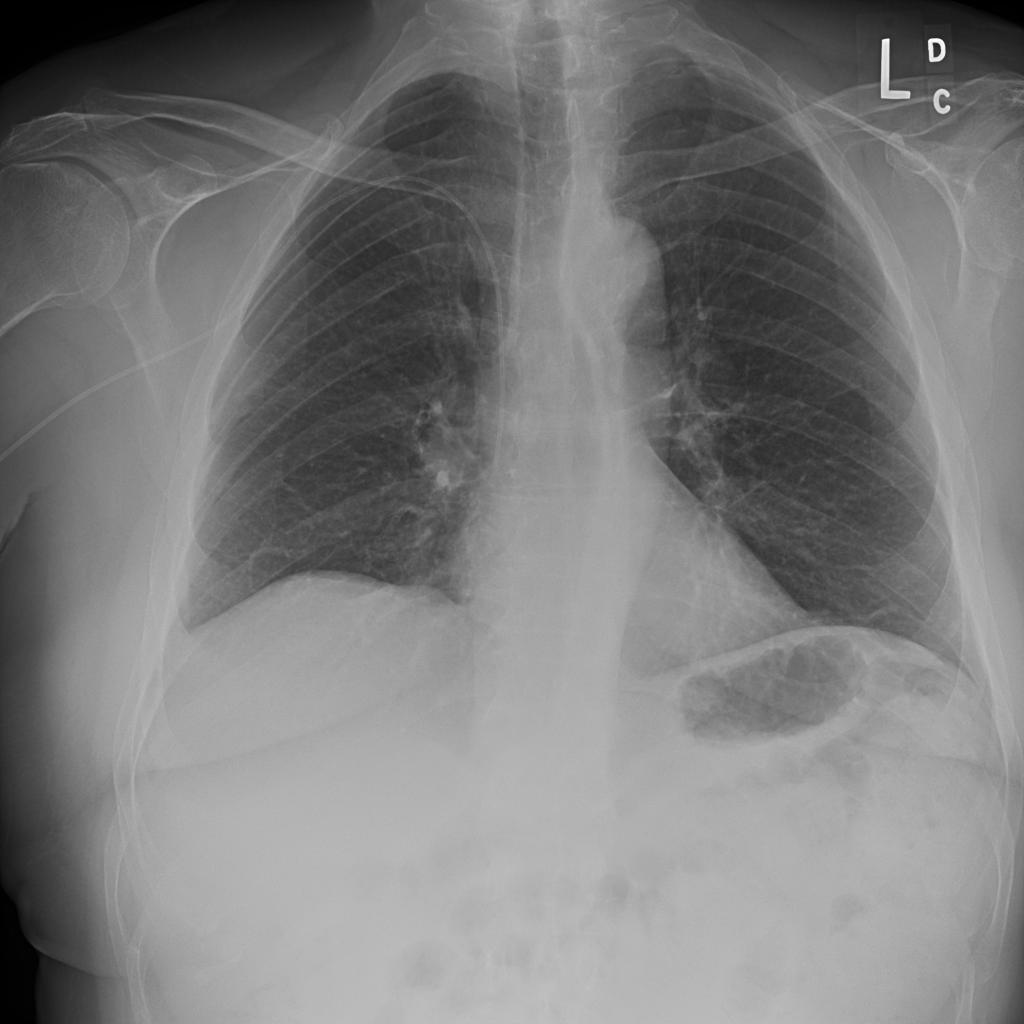Nodule: (346, 168, 370, 200), (338, 145, 351, 165)
